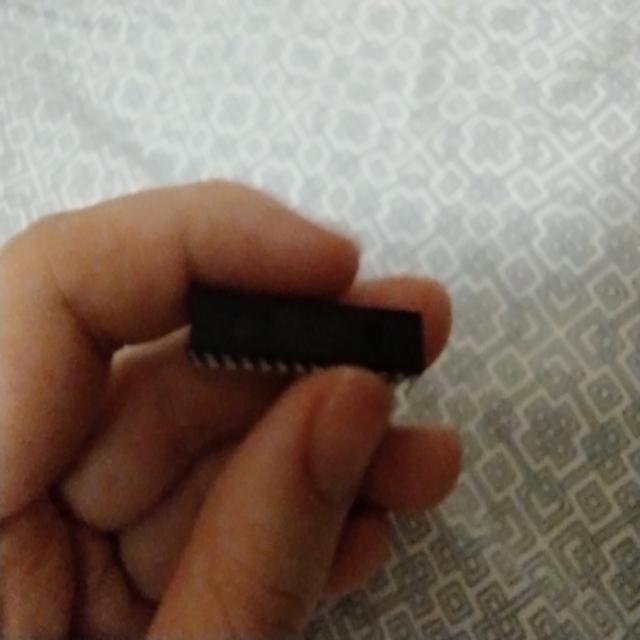atmega: (184, 277, 431, 403)
